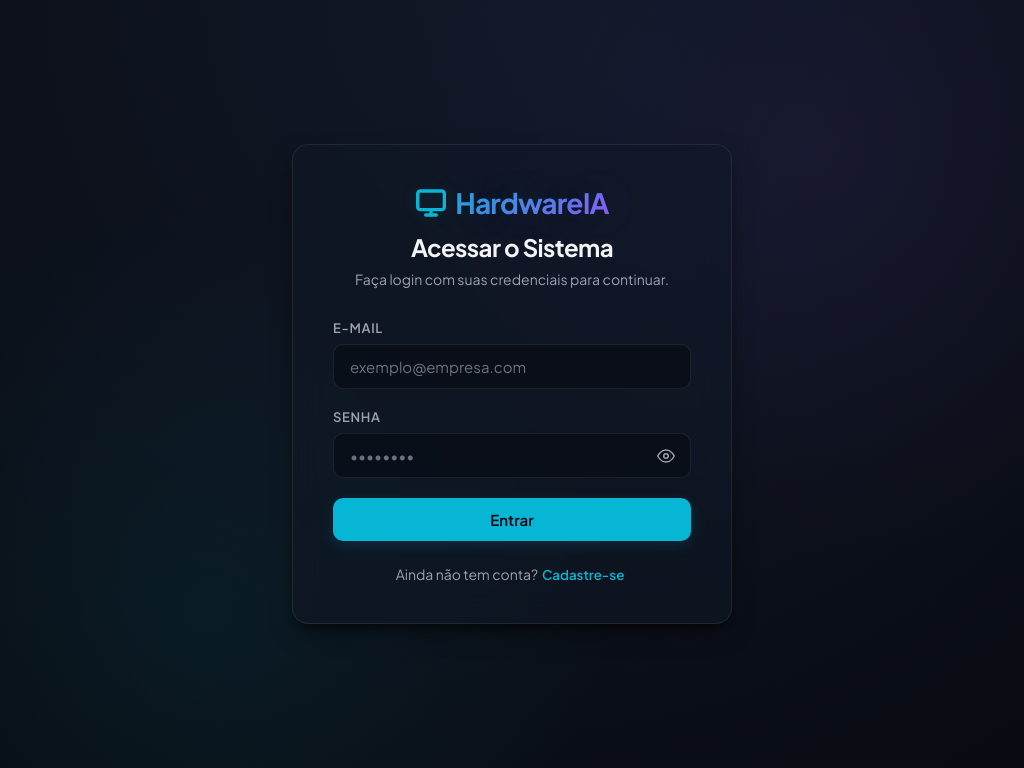
Scenario: Sistema de Autenticação - Fluxos de Cadastro, Login, Logout e Verificação › Cadastro com e-mail novo deve retornar sucesso e orientar verificação
Click the button "Cadastre-se". click: (583,574)
box: [538,566,628,583]
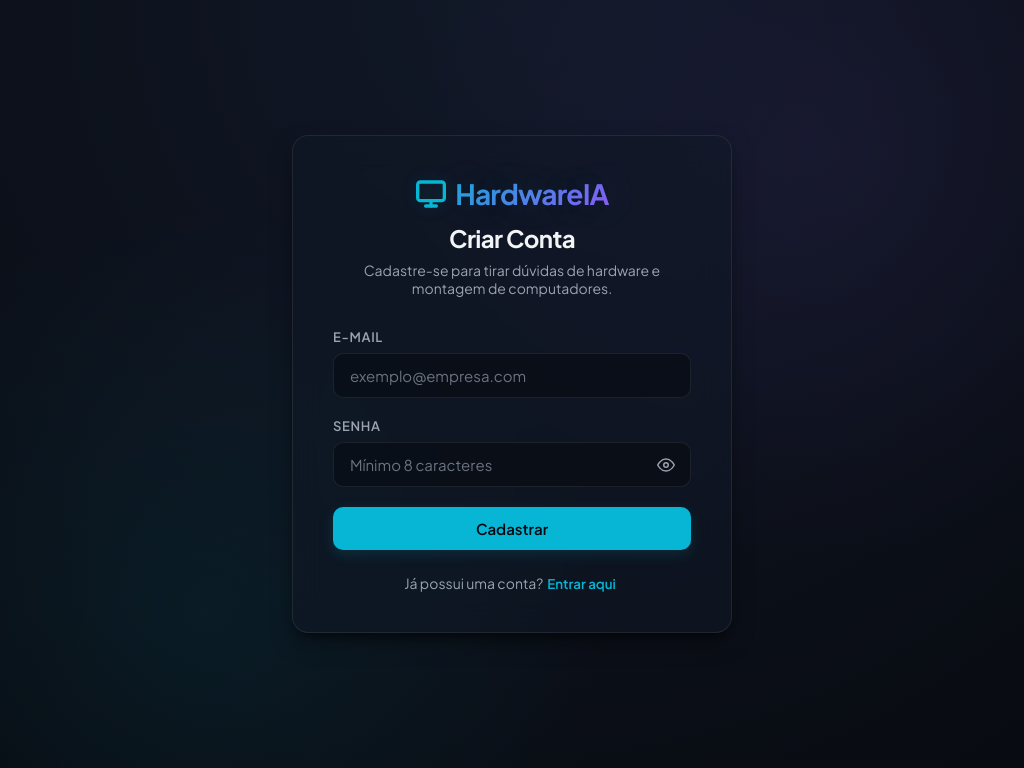
Type "novo@empresa.com" into the field labelled "E-mail". click: (512,376)
box: [333,353,691,398]
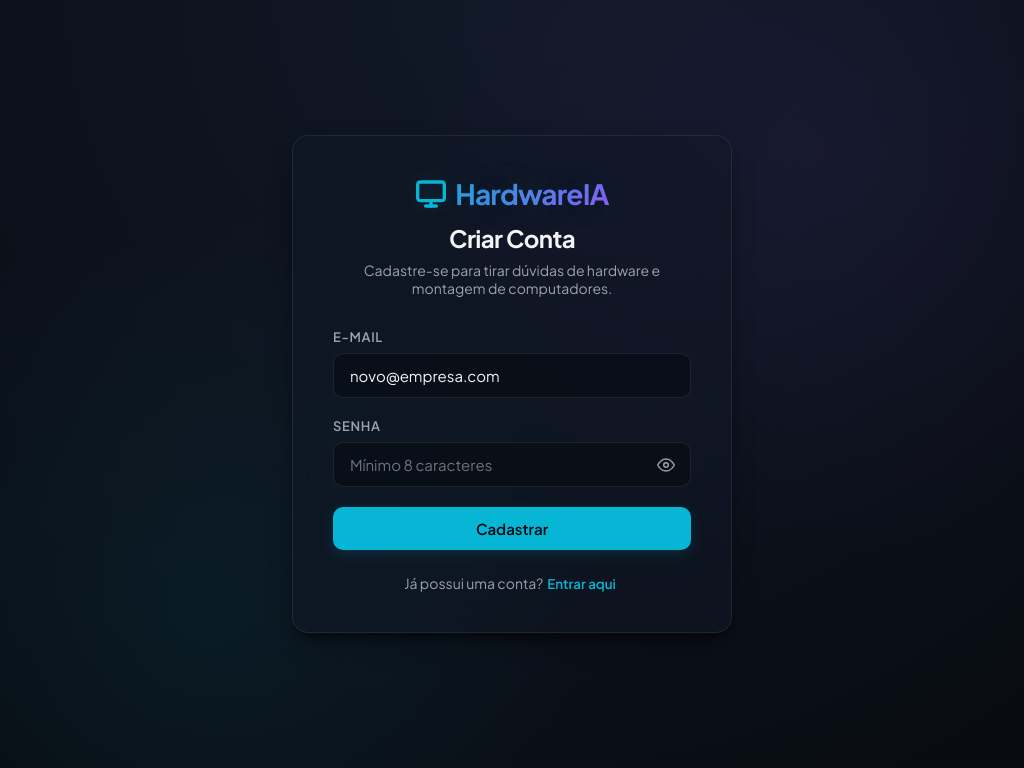
Type "SenhaForte123" into the password field labelled "Senha". click: (512,464)
box: [333,442,691,487]
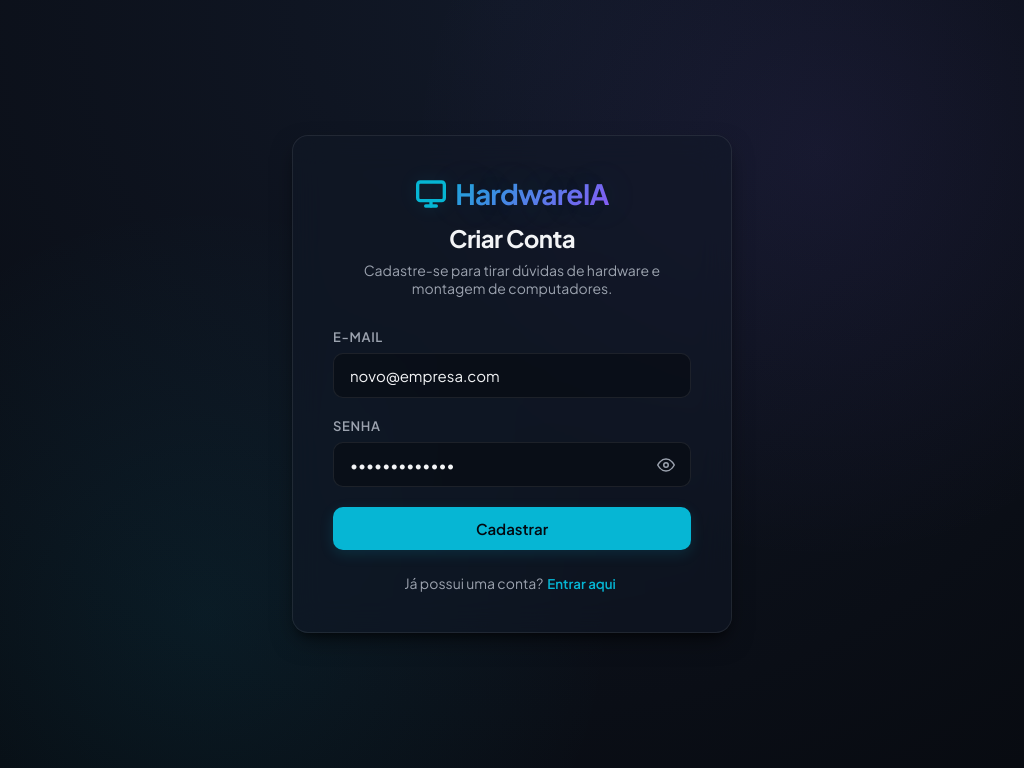
Click the button "Cadastrar". click: (512,528)
box: [333,507,691,550]
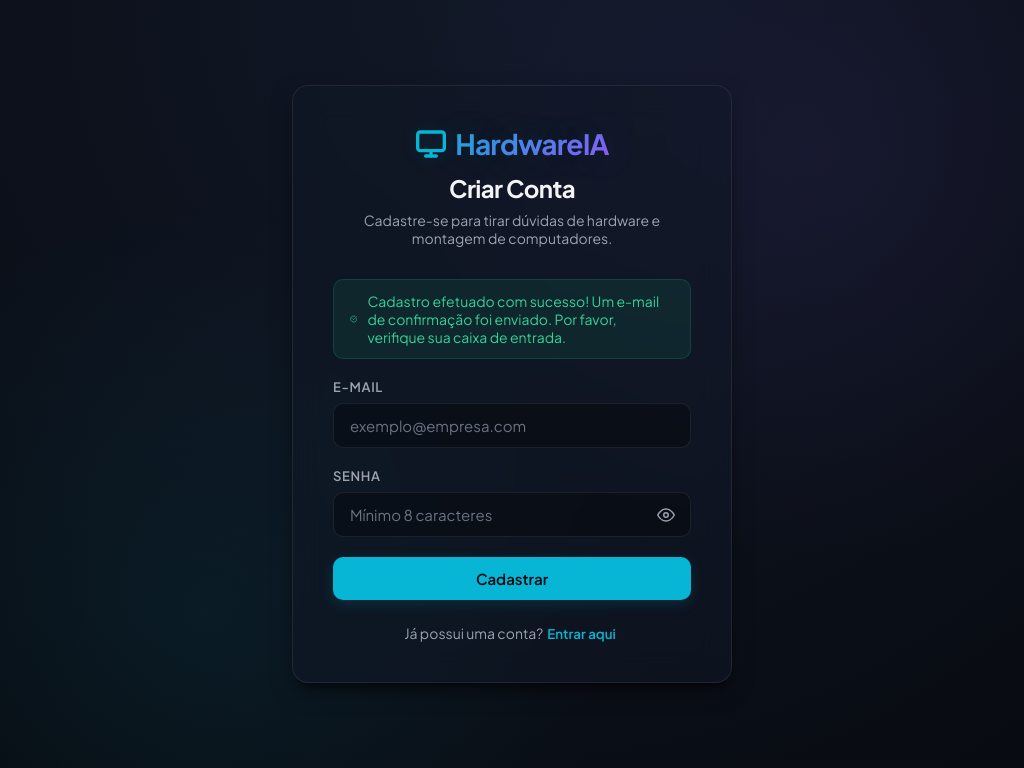
Check: the text "Cadastro efetuado com sucesso" is shown, box [367,292,659,346]
